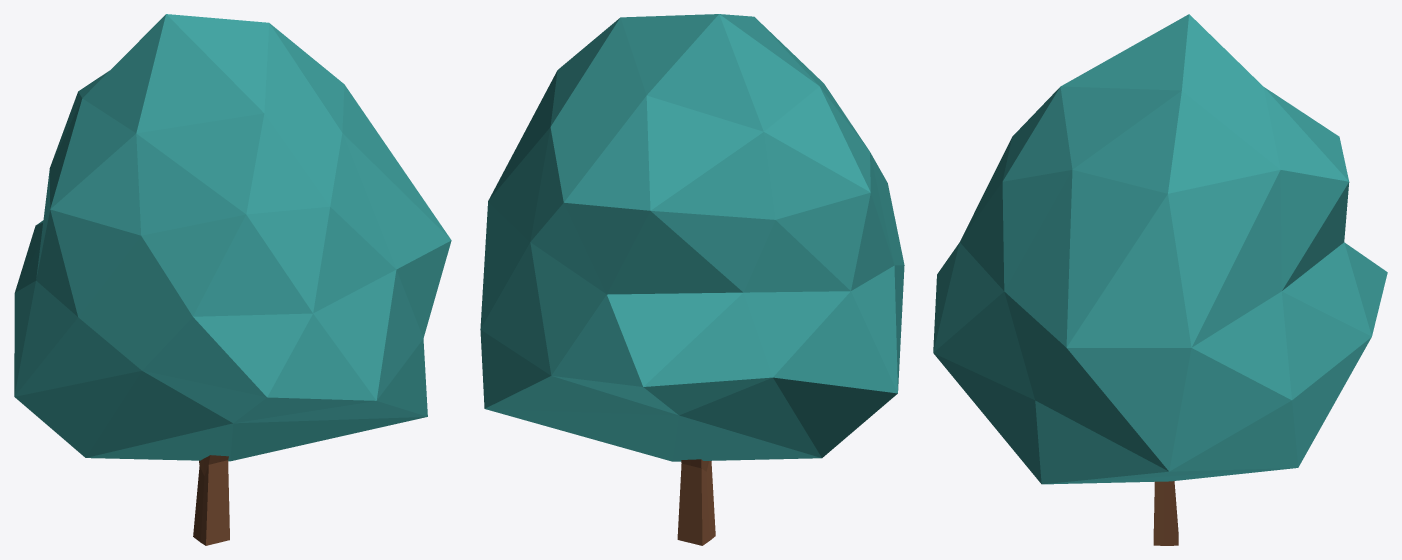
The model's file is Tree_57_Blue.fbx.
3 renders of one model, left to right at view 1: azimuth 30°, elevation 25°; view 2: azimuth 150°, elevation 25°; view 3: azimuth 270°, elevation 25°, orthographic. The views are drawn at different scales.
Parts seen in each view (by area): view 1: Tree_57_Blue_Part_1, Tree_57_Blue_Part_2; view 2: Tree_57_Blue_Part_1, Tree_57_Blue_Part_2; view 3: Tree_57_Blue_Part_1, Tree_57_Blue_Part_2.
Part boxes in pixels (bbox=[...]): Tree_57_Blue_Part_1: bbox=[14, 14, 451, 461]; Tree_57_Blue_Part_2: bbox=[193, 455, 229, 545]; Tree_57_Blue_Part_1: bbox=[480, 14, 904, 461]; Tree_57_Blue_Part_2: bbox=[677, 459, 715, 545]; Tree_57_Blue_Part_1: bbox=[933, 14, 1387, 484]; Tree_57_Blue_Part_2: bbox=[1153, 481, 1178, 545].
Size of the model in its own units: 643 by 801 by 647.
